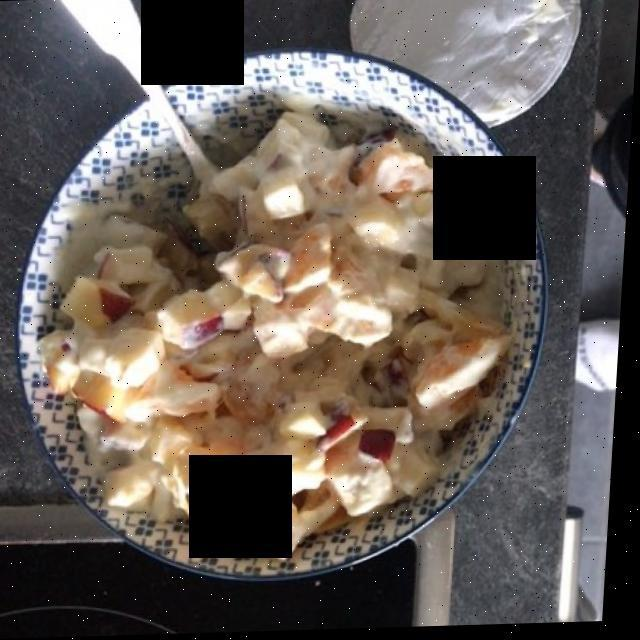apple: (67, 105, 453, 532)
orange: (181, 143, 502, 482)
yogurt: (62, 207, 463, 274)
